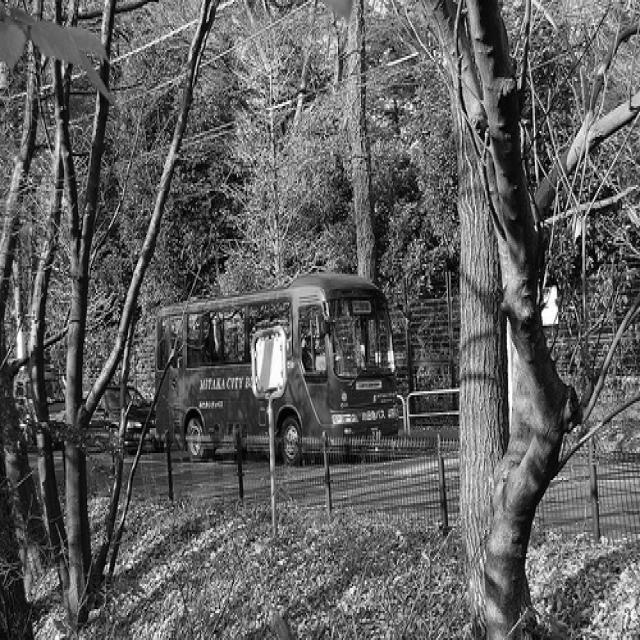bus: (160, 274, 398, 462)
car: (82, 384, 156, 451)
